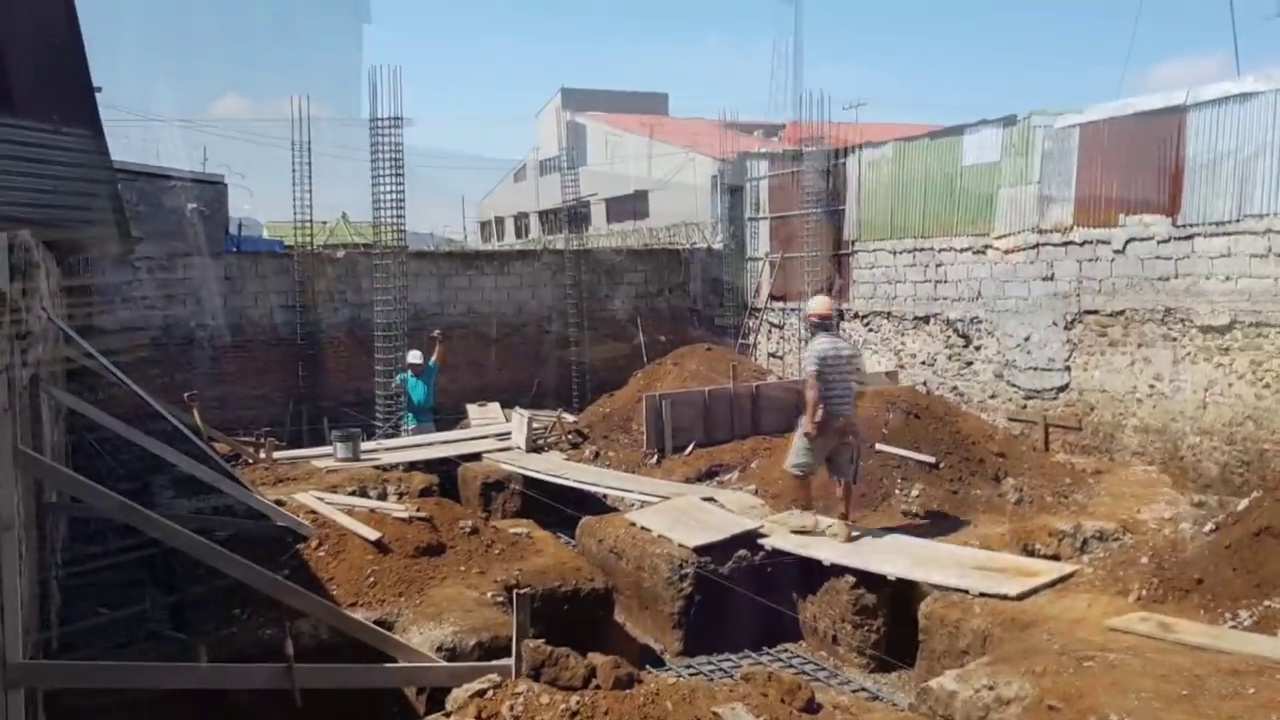helmet: (803, 292, 838, 323), (403, 347, 425, 365)
helmet-on: (804, 292, 838, 340), (404, 348, 425, 378)
person: (782, 292, 865, 544), (392, 329, 443, 436)
